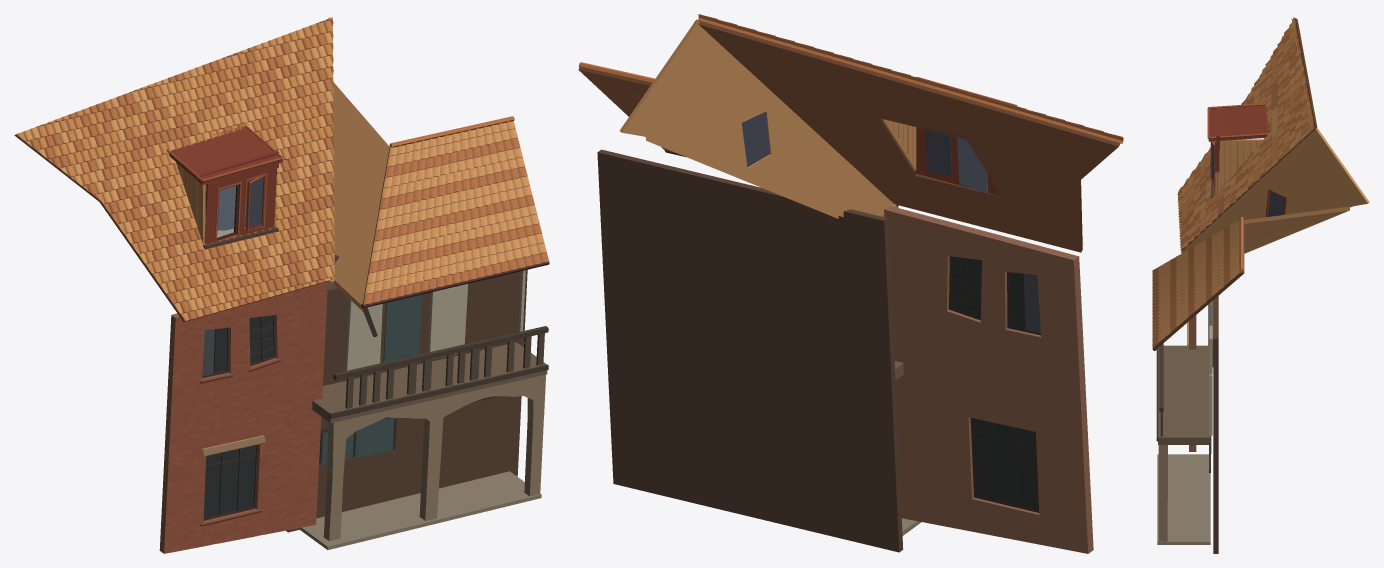
File: changning-cypress-hotel-2-dormer-and-loggia-lod.glb
3 renders of one model, left to right at view 1: azimuth 30°, elevation 25°; view 2: azimuth 150°, elevation 25°; view 3: azimuth 270°, elevation 25°, orthographic. The views are drawn at different scales.
Parts seen in each view (by area): view 1: 龙柏饭店2号楼的双扇老虎窗与草坪柱廊; view 2: 龙柏饭店2号楼的双扇老虎窗与草坪柱廊; view 3: 龙柏饭店2号楼的双扇老虎窗与草坪柱廊.
Part boxes in pixels (box(x1,y1,x2,y2)): 龙柏饭店2号楼的双扇老虎窗与草坪柱廊: box(14, 17, 549, 553); 龙柏饭店2号楼的双扇老虎窗与草坪柱廊: box(578, 14, 1123, 553); 龙柏饭店2号楼的双扇老虎窗与草坪柱廊: box(1152, 17, 1369, 553).
Size of the model in its own units: 14.48 by 13.34 by 6.97.
Materials: 32 (1 with a texture image).
